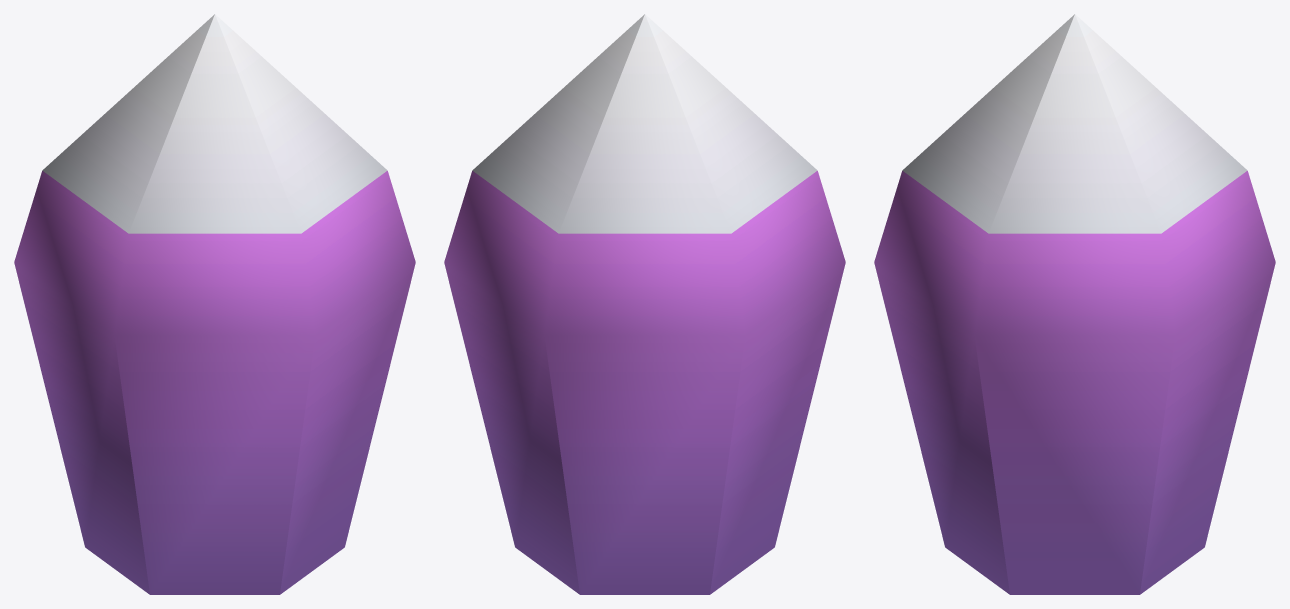
File: snow-detail-crystal.glb
The picture shows the model from 3 angles, left to right: view 1: azimuth 30°, elevation 25°; view 2: azimuth 150°, elevation 25°; view 3: azimuth 270°, elevation 25°; orthographic projection.
Visible parts, largest first — view 1: snow-detail-crystal; view 2: snow-detail-crystal; view 3: snow-detail-crystal.
Boxes of the visible parts, box(x1,y1,x2,y2) form: snow-detail-crystal: box(14, 14, 415, 594); snow-detail-crystal: box(444, 14, 845, 594); snow-detail-crystal: box(874, 14, 1275, 594).
Size of the model in its own units: 0.2512 by 0.425 by 0.29.
Materials: 1 (1 with a texture image).
